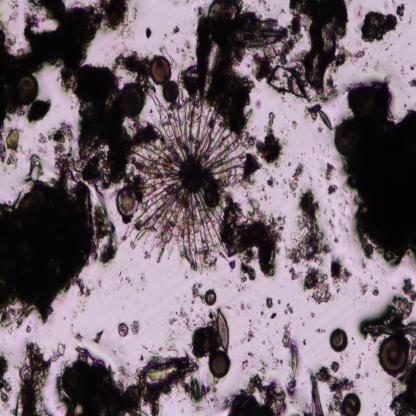Background material: (0, 165, 97, 326), (337, 84, 416, 264), (0, 0, 98, 131), (270, 1, 355, 103), (53, 344, 169, 415), (65, 62, 131, 182), (284, 188, 334, 306), (222, 206, 285, 276), (196, 11, 252, 87), (16, 340, 53, 416), (86, 191, 119, 273), (226, 374, 287, 415), (268, 55, 309, 101), (254, 111, 284, 165), (47, 123, 80, 166), (308, 372, 340, 416), (281, 330, 300, 402), (98, 0, 134, 37), (317, 361, 356, 394), (359, 12, 398, 43), (188, 322, 219, 356), (117, 52, 152, 81), (173, 36, 200, 72), (0, 127, 26, 164), (396, 275, 416, 320), (0, 352, 13, 404), (237, 352, 271, 371), (168, 304, 196, 327), (254, 51, 276, 80), (27, 99, 50, 126), (330, 260, 352, 286), (235, 325, 256, 352), (114, 272, 139, 294), (72, 270, 90, 300), (28, 152, 43, 184), (288, 163, 304, 193), (357, 352, 371, 382), (240, 264, 257, 283), (307, 104, 322, 121), (324, 162, 336, 181), (192, 284, 203, 303), (93, 328, 104, 345), (130, 320, 141, 335), (284, 303, 294, 318), (267, 176, 279, 188), (396, 4, 406, 18), (355, 50, 366, 61), (314, 326, 326, 336), (360, 283, 368, 297), (327, 184, 339, 193), (266, 297, 274, 309), (172, 25, 182, 34), (301, 334, 308, 346), (407, 78, 416, 87), (145, 28, 152, 39), (270, 312, 277, 320), (372, 289, 379, 296), (309, 311, 315, 319)
Cellulose filter fibre: (359, 314, 416, 337)
Diatom: (239, 11, 287, 51), (136, 357, 194, 383), (200, 36, 223, 100), (378, 336, 410, 376), (334, 119, 361, 157), (208, 0, 243, 26), (120, 83, 144, 117), (16, 75, 40, 108), (116, 188, 140, 217), (215, 309, 230, 353), (208, 350, 230, 377), (151, 56, 171, 85), (329, 326, 348, 354), (341, 392, 361, 415), (318, 110, 336, 132), (164, 80, 180, 104), (204, 288, 217, 307), (21, 365, 33, 382), (118, 323, 128, 337), (49, 354, 61, 362), (384, 77, 391, 85)
